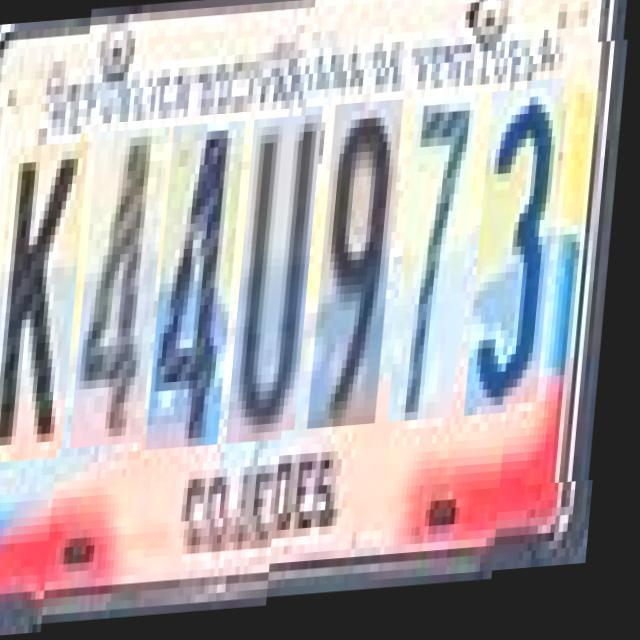3: (472, 96, 568, 425)
4: (154, 116, 250, 445), (78, 121, 172, 442)
7: (397, 102, 482, 430)
9: (316, 107, 406, 434)
K: (0, 126, 92, 448)
U: (235, 112, 326, 440)
